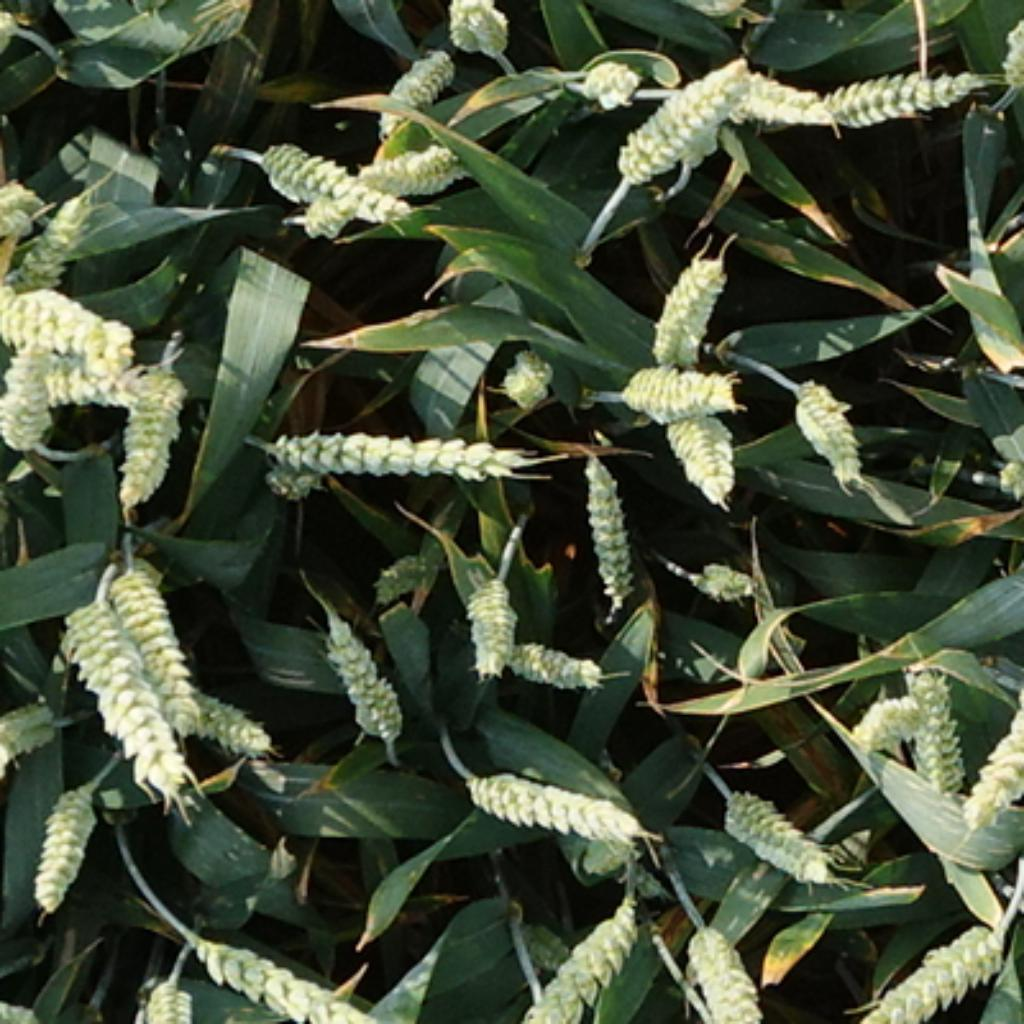0-0: (56, 601, 186, 816), (174, 906, 391, 1021), (235, 409, 524, 494), (609, 53, 762, 184), (455, 752, 645, 849), (512, 890, 647, 1024), (104, 563, 204, 739), (860, 903, 1008, 1021), (258, 138, 407, 235), (312, 604, 414, 739), (716, 783, 839, 888), (812, 53, 989, 125), (5, 276, 138, 366), (110, 360, 192, 501), (2, 350, 181, 412), (28, 770, 104, 908), (890, 663, 970, 793), (645, 240, 734, 355), (678, 911, 768, 1021), (576, 450, 642, 596), (688, 69, 837, 128), (965, 668, 1024, 816), (10, 186, 97, 286), (788, 378, 867, 486), (378, 35, 458, 140), (174, 668, 273, 752), (2, 330, 71, 450), (655, 407, 739, 501), (826, 674, 921, 756), (611, 355, 739, 414), (491, 624, 604, 686), (350, 133, 468, 192), (458, 565, 522, 668), (291, 176, 401, 235), (2, 696, 61, 778), (368, 537, 445, 599), (442, 0, 517, 58), (568, 51, 642, 107), (686, 555, 762, 606), (496, 337, 555, 401), (258, 465, 330, 504), (0, 178, 40, 245)
